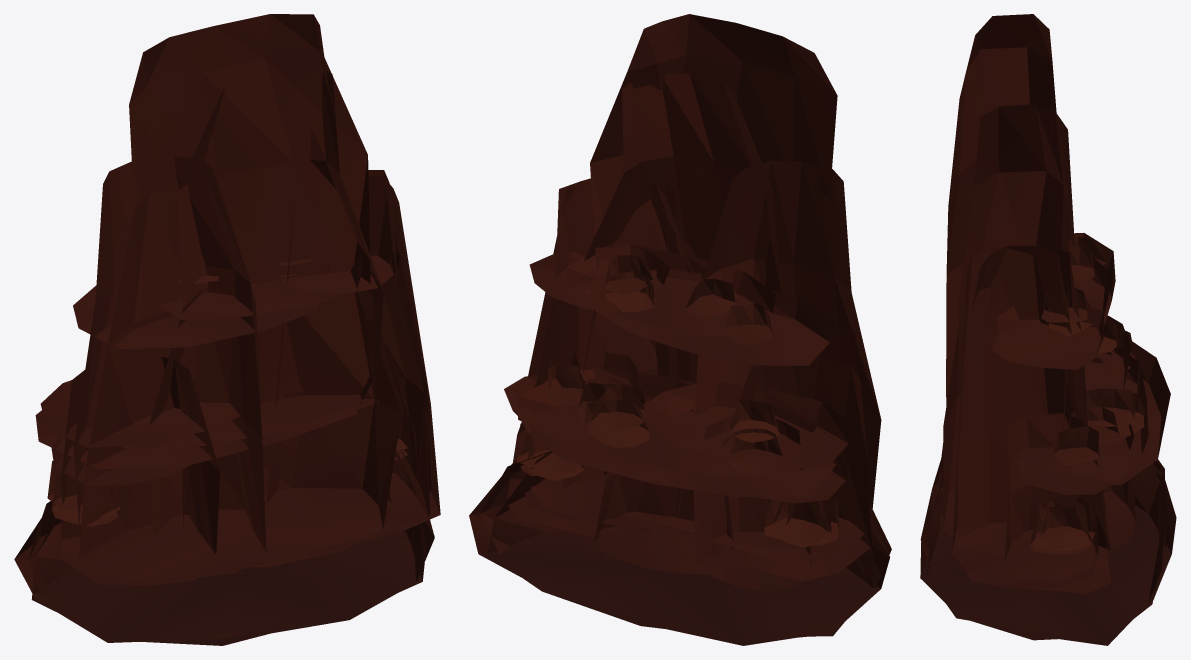
Rendered from basalt-shelf-original-v2.glb.
3 views of the same model, side by side, from view 1: azimuth 30°, elevation 25°; view 2: azimuth 150°, elevation 25°; view 3: azimuth 270°, elevation 25° (orthographic). The views are drawn at different scales.
Visible parts, largest first — view 1: basalt-shelf-load-bearing-massif (×3), basalt-shelf-supported-spalls (×2); view 2: basalt-shelf-load-bearing-massif (×3), basalt-shelf-supported-spalls (×3); view 3: basalt-shelf-load-bearing-massif (×3), basalt-shelf-supported-spalls (×3).
Part boxes in pixels (x1=…): basalt-shelf-load-bearing-massif (×3): x1=14, y1=14, x2=440, y2=645; basalt-shelf-supported-spalls (×2): x1=47, y1=259, x2=408, y2=526; basalt-shelf-load-bearing-massif (×3): x1=469, y1=14, x2=891, y2=645; basalt-shelf-supported-spalls (×3): x1=516, y1=255, x2=838, y2=547; basalt-shelf-load-bearing-massif (×3): x1=920, y1=14, x2=1176, y2=645; basalt-shelf-supported-spalls (×3): x1=1029, y1=237, x2=1147, y2=554.
Size of the model in its own units: 8.04 by 10.98 by 5.08.
